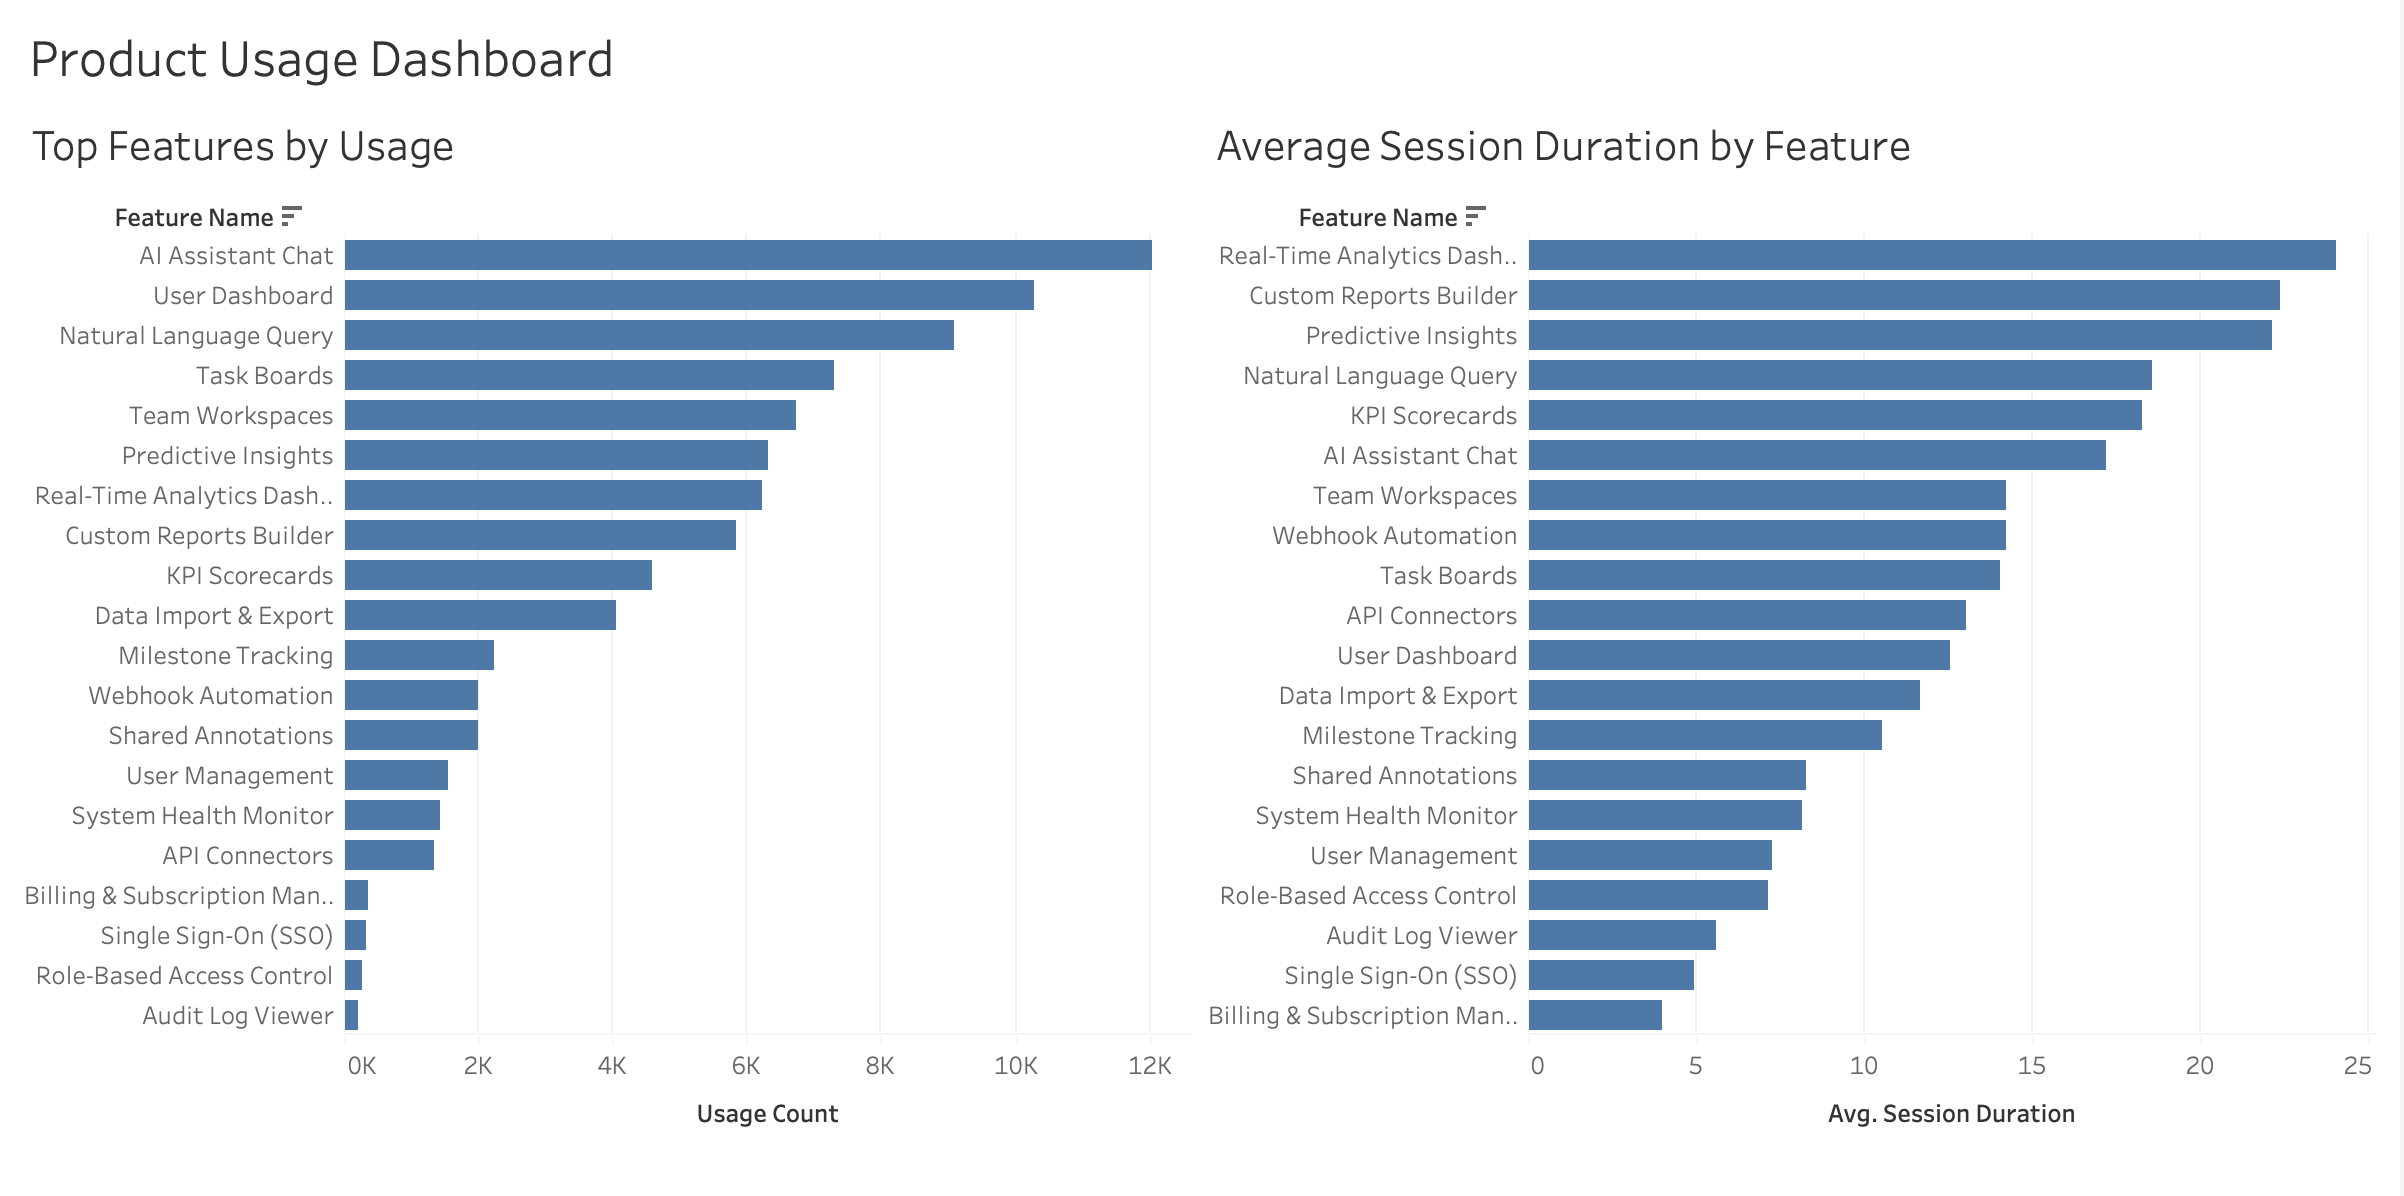

The page's visual inventory and layout, read from the dashboard file:
{"tool":"tableau","page":{"name":"Product Usage Dashboard","canvas":[1200,600],"ordinal":1},"visuals":[{"type":"title","box":[8,8,1184,42]},{"type":"worksheet","title":"Top Features by Usage","mark":"Automatic","rows":["feature_name"],"cols":["usage_count"],"box":[8,50,592,542]},{"type":"worksheet","title":"Average Session Duration by Feature","mark":"Automatic","rows":["feature_name"],"cols":["session_duration"],"box":[600,50,592,542]}]}

Visuals, with their boxes in screenshot pixels (x1, y1, x2, y2), scaled from the page's 1200x600 canvas onto the 2404x1196 screenshot:
title: 16, 16, 2388, 100
"Top Features by Usage" worksheet: 16, 100, 1202, 1180
"Average Session Duration by Feature" worksheet: 1202, 100, 2388, 1180
